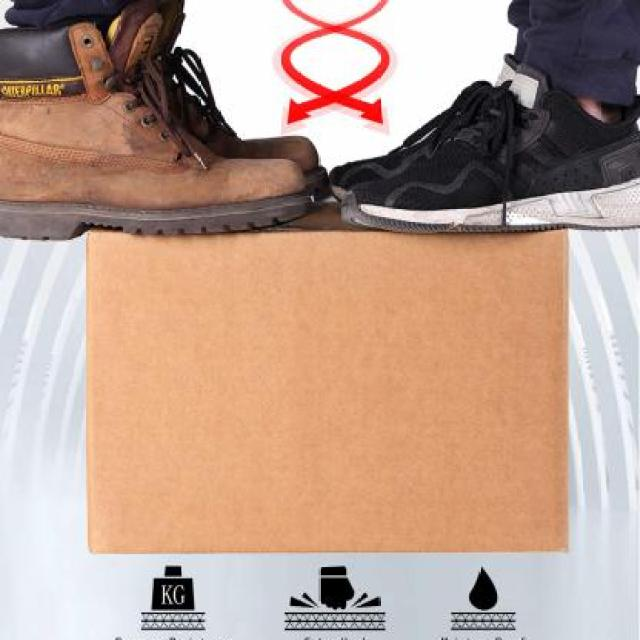box: (81, 211, 578, 563)
